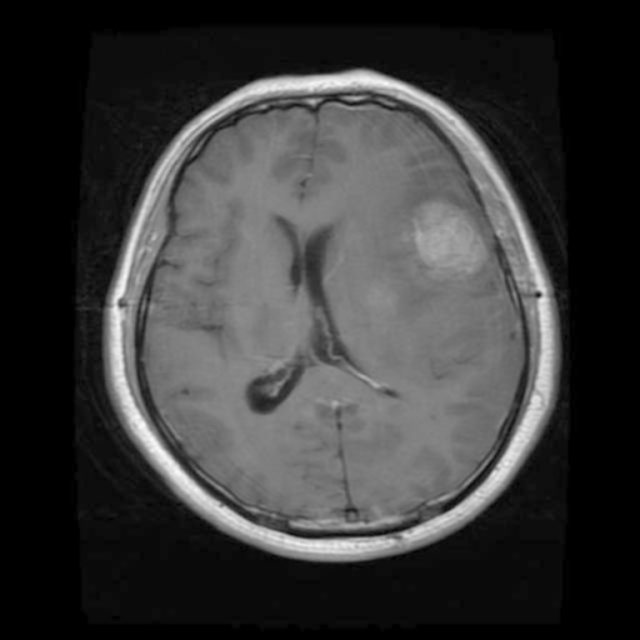meningioma tumor: (398, 185, 502, 299)
